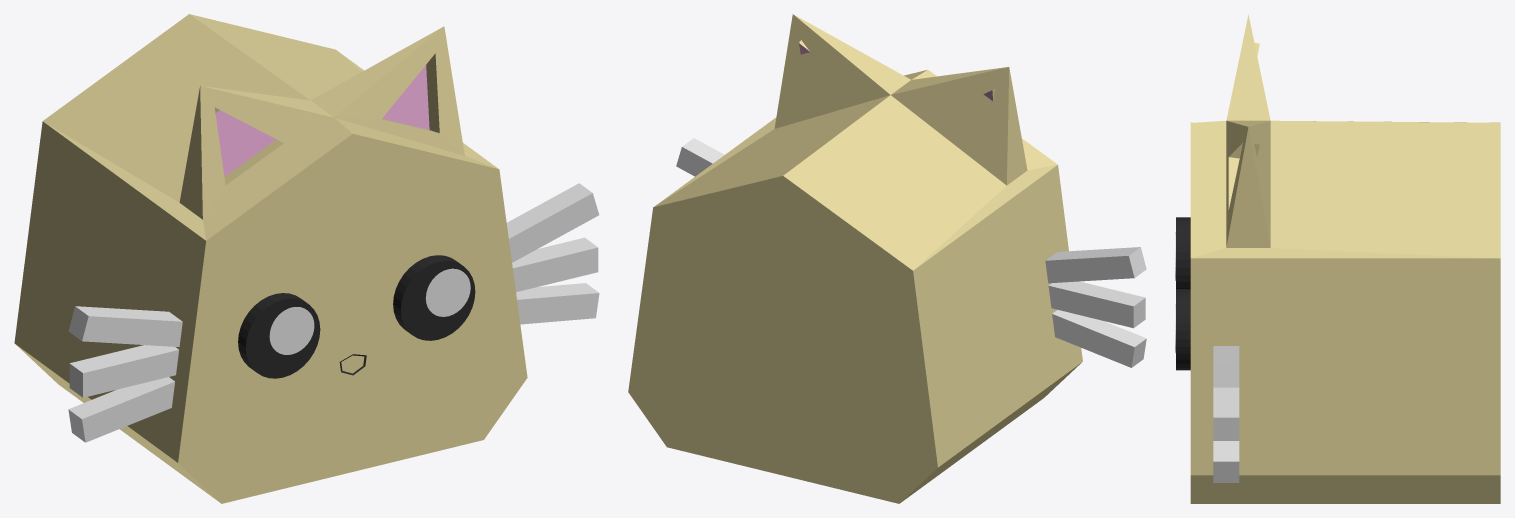
File: _esta_3_.fbx
3 renders of one model, left to right at view 1: azimuth 30°, elevation 25°; view 2: azimuth 150°, elevation 25°; view 3: azimuth 270°, elevation 25°, orthographic. The views are drawn at different scales.
Parts seen in each view (by area): view 1: Cube, Cube.003, Cylinder.001, Cylinder; view 2: Cube, Cube.003; view 3: Cube, Cube.003.
Part boxes in pixels (box(x1,y1,x2,y2)): Cube: box(14, 14, 527, 503); Cube.003: box(68, 183, 599, 442); Cylinder.001: box(269, 307, 314, 354); Cylinder: box(425, 268, 470, 316); Cube: box(628, 14, 1082, 503); Cube.003: box(676, 138, 1146, 367); Cube: box(1176, 14, 1500, 503); Cube.003: box(1213, 346, 1239, 482).
Bounding box in the file's own units: 274 × 199 × 157.
